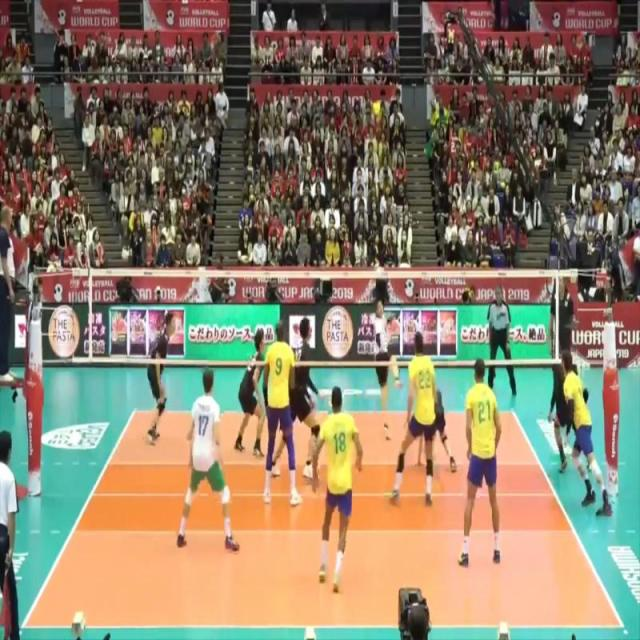volleyball: (371, 94, 386, 120)
